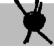not correct: (13, 0, 53, 47)
